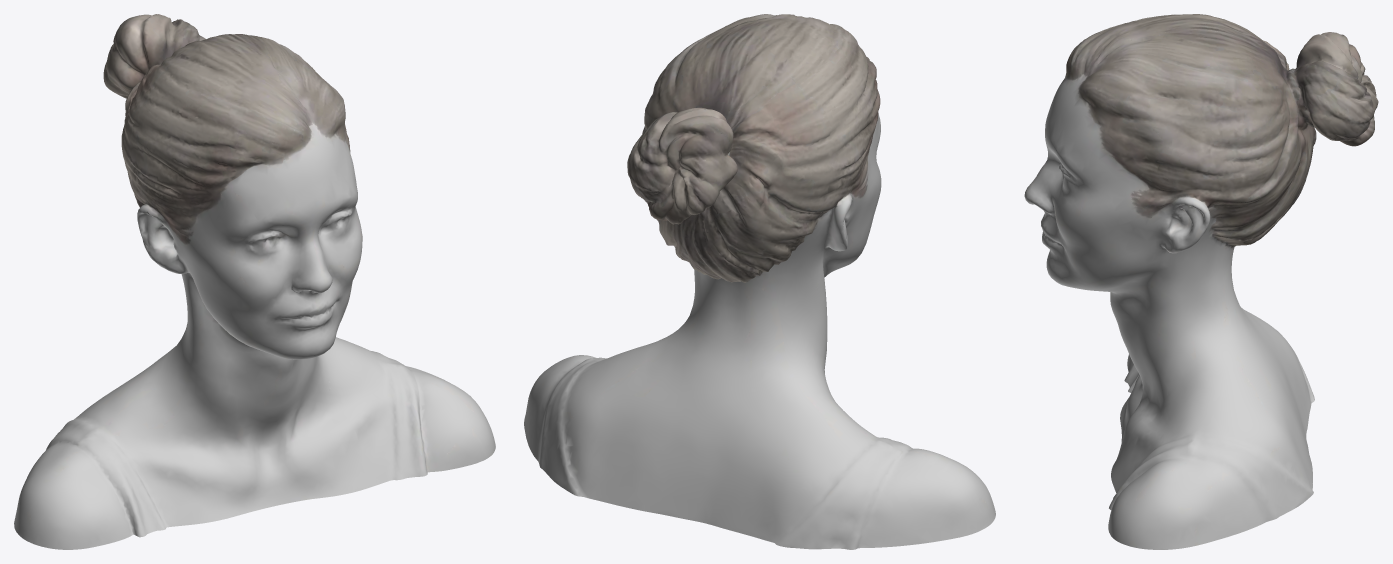
Rendered from 石膏头像_女中青年_20260324191707_opt.glb.
3 renders of one model, left to right at view 1: azimuth 30°, elevation 25°; view 2: azimuth 150°, elevation 25°; view 3: azimuth 270°, elevation 25°, orthographic. The views are drawn at different scales.
Visible parts, largest first — view 1: SkinMeshLelde; view 2: SkinMeshLelde; view 3: SkinMeshLelde.
Part boxes in pixels (<box>): SkinMeshLelde: <box>14,14,495,549</box>; SkinMeshLelde: <box>524,14,995,549</box>; SkinMeshLelde: <box>1024,14,1378,549</box>.
Size of the model in its own units: 0.4362 by 0.4 by 0.3076.
Materials: 2 (1 with a texture image).
